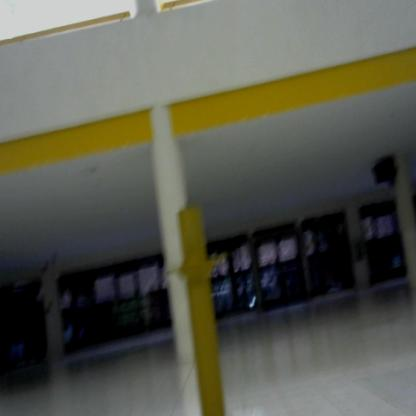pole: (164, 202, 240, 416)
